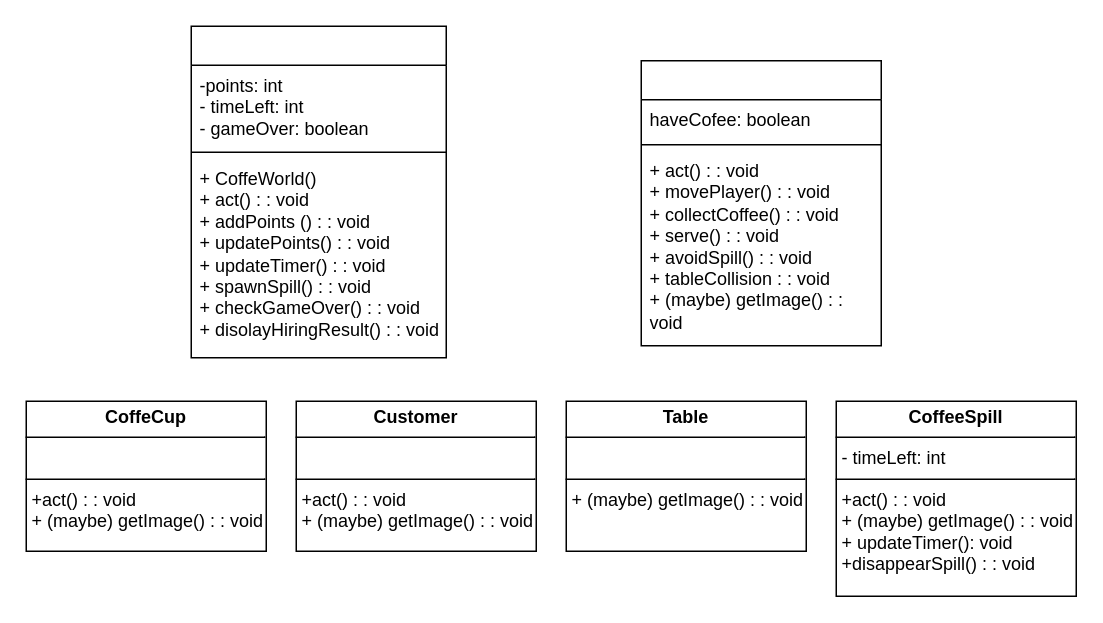
The diagram is 1103 pixels wide and 623 high, and some of its shapes have lost their labels. The shapes that lost their labels are listed below. From the top down, each one's box as (x1, y1, x2, y2) in pixels, then its label:
(190, 25, 446, 358): COFFEE WORLD
(640, 59, 881, 346): Barista
